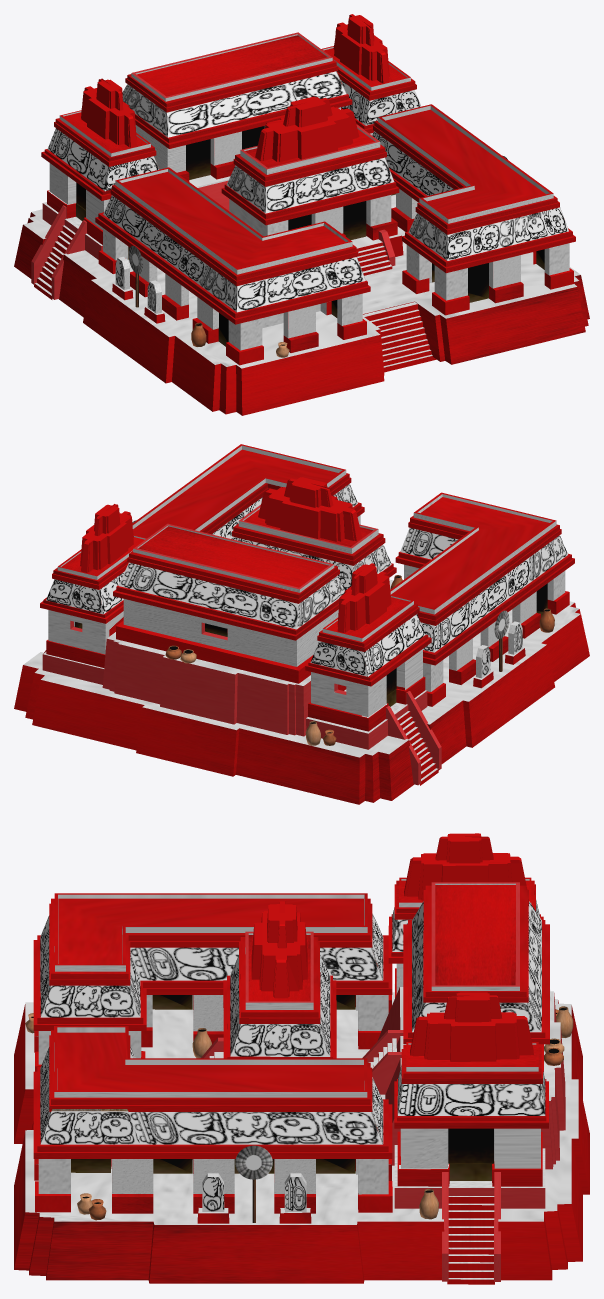
File: palacio.dae
3 views of the same model, one above another, from view 1: azimuth 30°, elevation 25°; view 2: azimuth 150°, elevation 25°; view 3: azimuth 270°, elevation 25° (orthographic). The views are drawn at different scales.
Visible parts, largest first — view 1: palacio; view 2: palacio; view 3: palacio.
Part boxes in pixels (x1,y1,x2,y2): palacio: [14, 14, 589, 415]; palacio: [14, 444, 589, 804]; palacio: [14, 833, 589, 1284].
Bounding box in the file's own units: 42.82 × 42.77 × 20.8.
